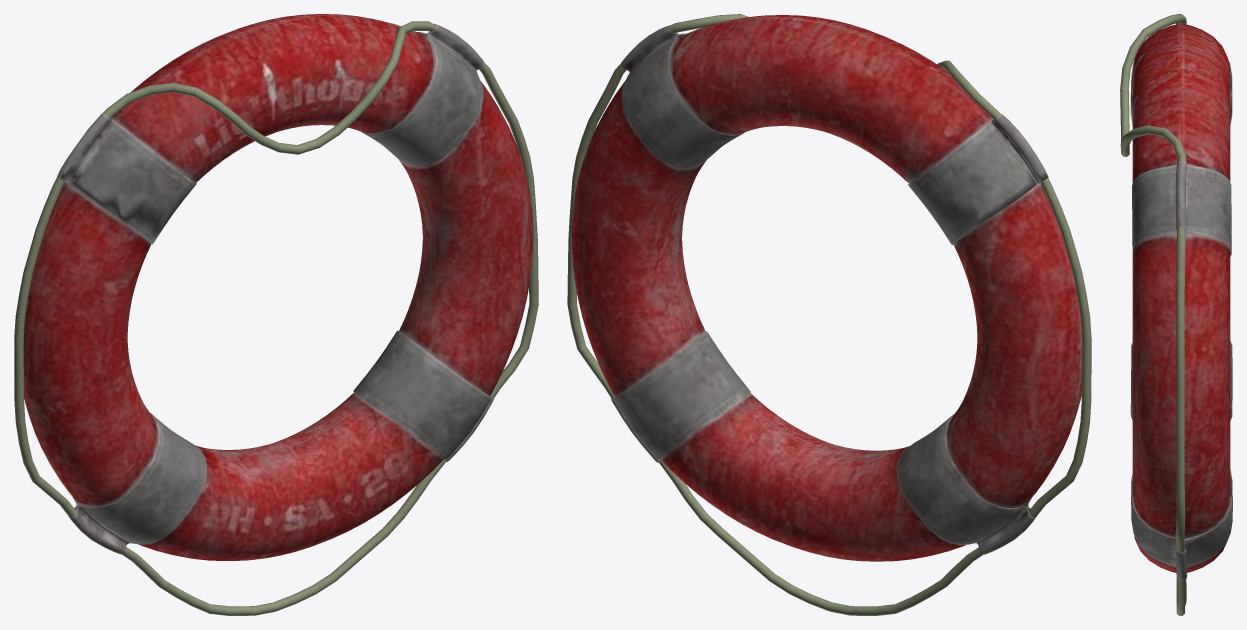
The model's file is lifebuoy.glb.
3 renders of one model, left to right at view 1: azimuth 30°, elevation 25°; view 2: azimuth 150°, elevation 25°; view 3: azimuth 270°, elevation 25°, orthographic. The views are drawn at different scales.
Bounding box in the file's own units: 0.7831 × 0.8412 × 0.1551.
Materials: 1 (1 with a texture image).
